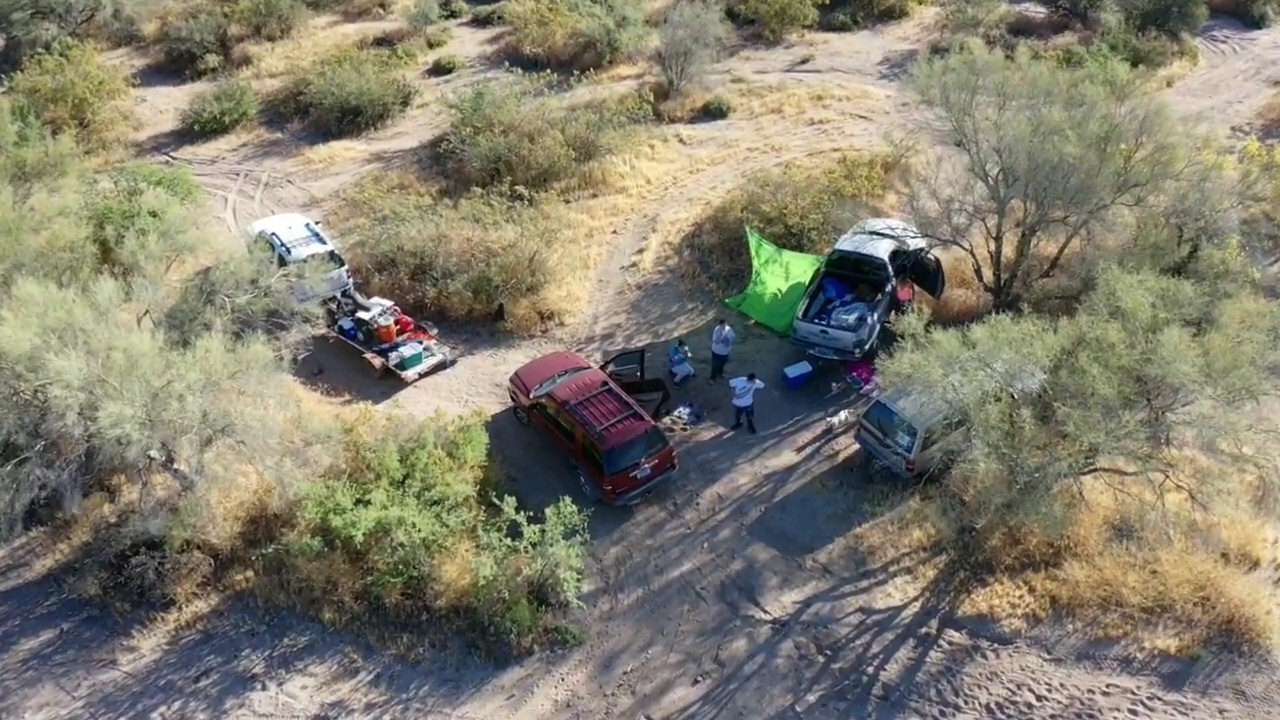araba: (851, 322, 1068, 479), (506, 346, 683, 511), (244, 203, 345, 322)
insan: (727, 368, 766, 437), (706, 315, 741, 388), (664, 333, 698, 386)
kamyonet: (791, 205, 939, 357)
